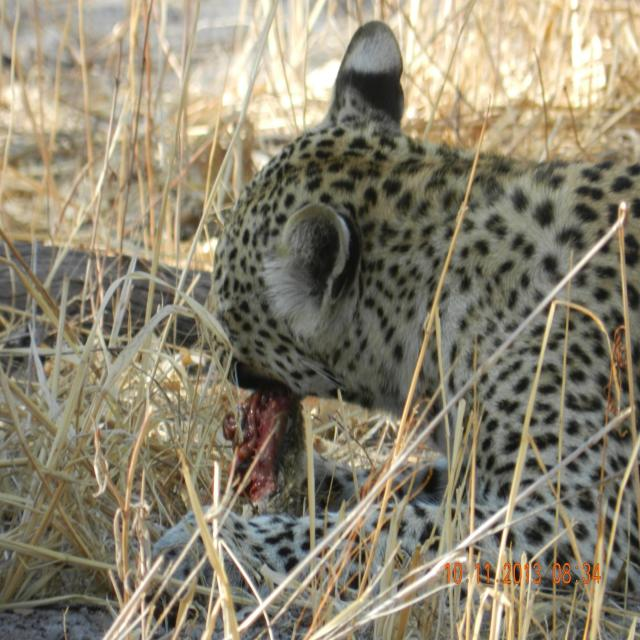Leopard: (131, 5, 640, 611)
